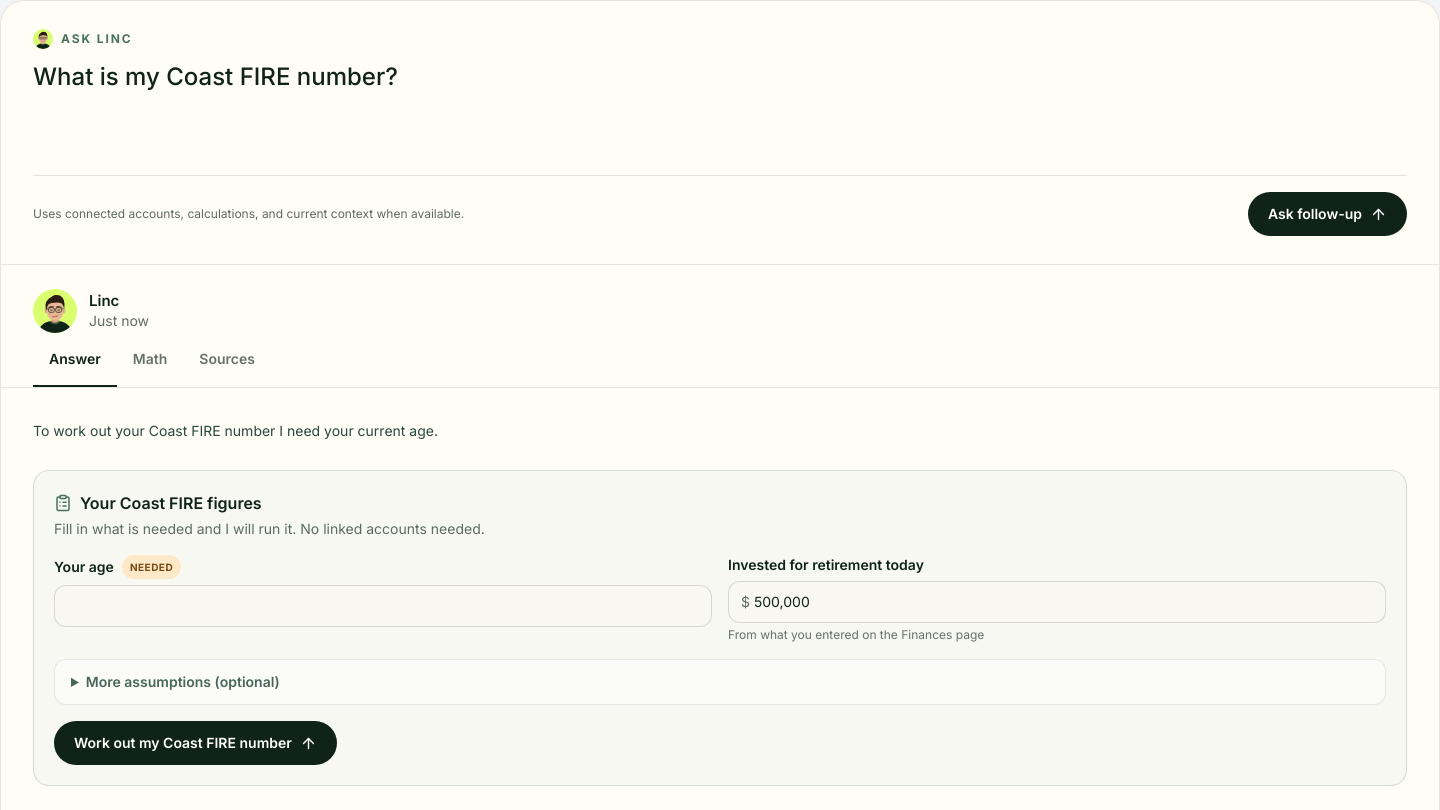
Test: FinanceQA decision workspace › a calculator waiting on figures › sends the figures as the next question in the same decision
The width and height of the screenshot is (1440, 810).
Step 1. Type "38" into the field labelled "Your age Needed" → (383, 606), box [67,586,699,626]
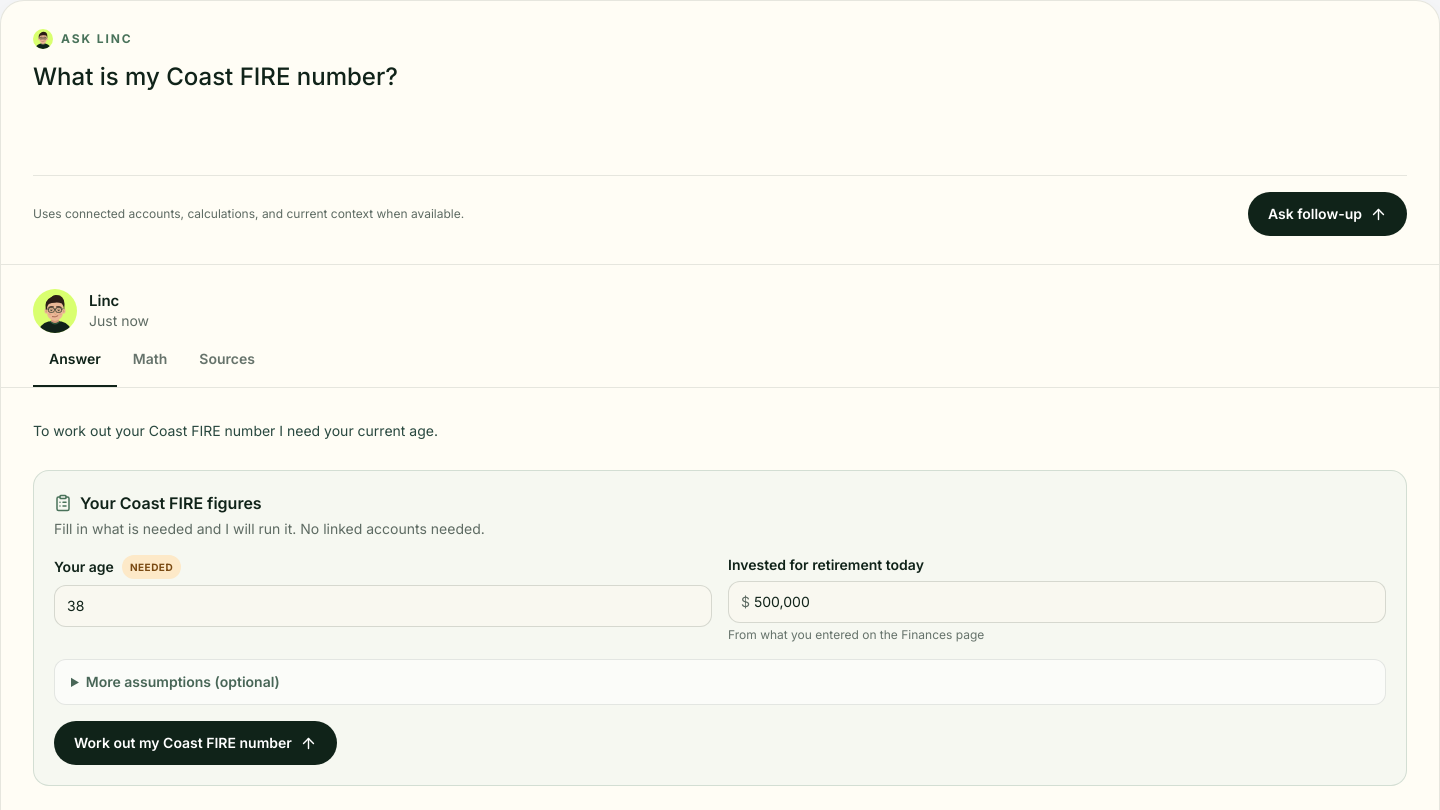
Step 2. Click the button "Work out my Coast FIRE number" → (195, 743), box [54,721,337,765]
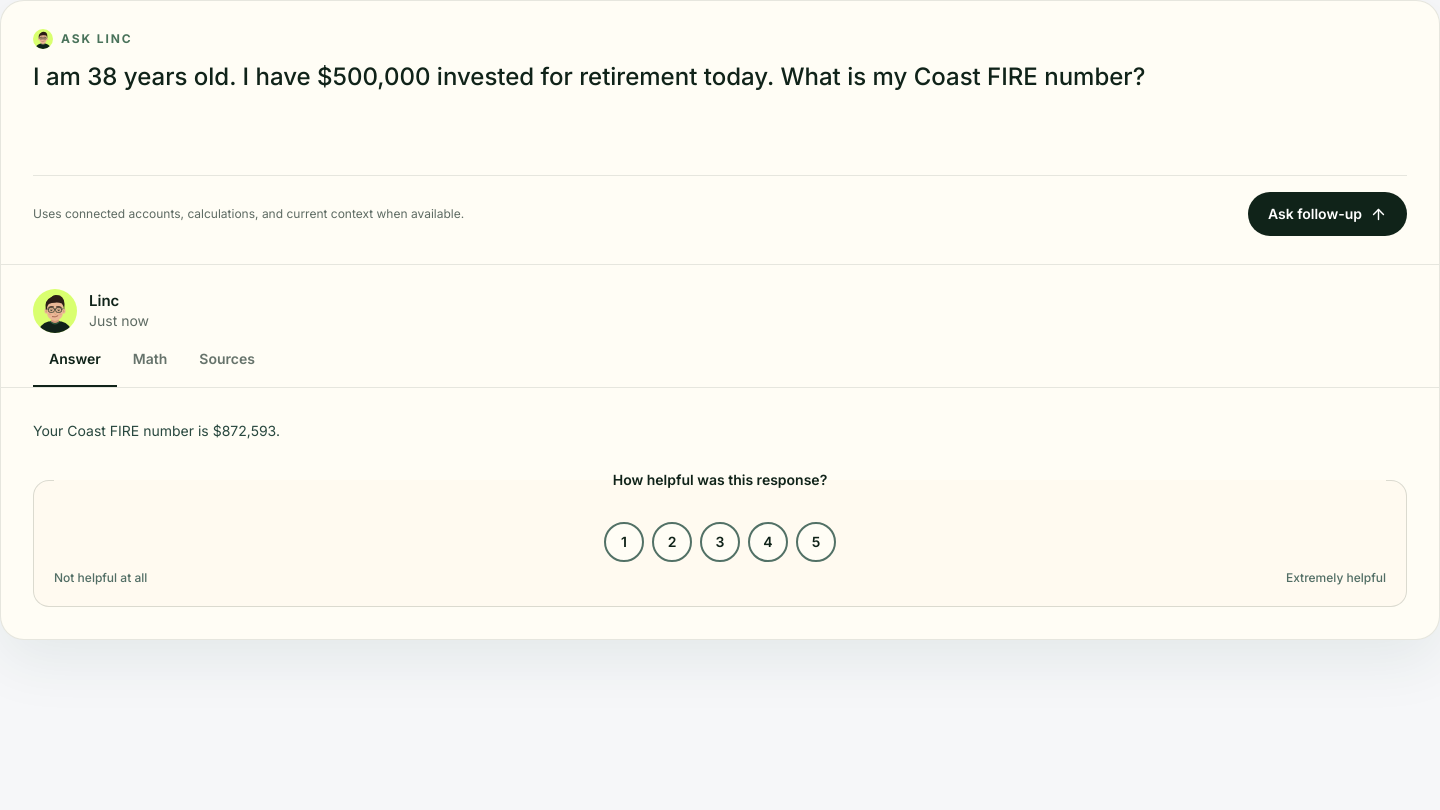
Result: the text box named "Your financial question" holds "I am 38 years old. I have $500,000 invested for retirement today. What is my Coast FIRE number?" at [33,61,1407,157]
Result: the text "Your Coast FIRE number is $872,593." is shown at [33,422,280,439]
Result: the heading "Your Coast FIRE figures" is gone
